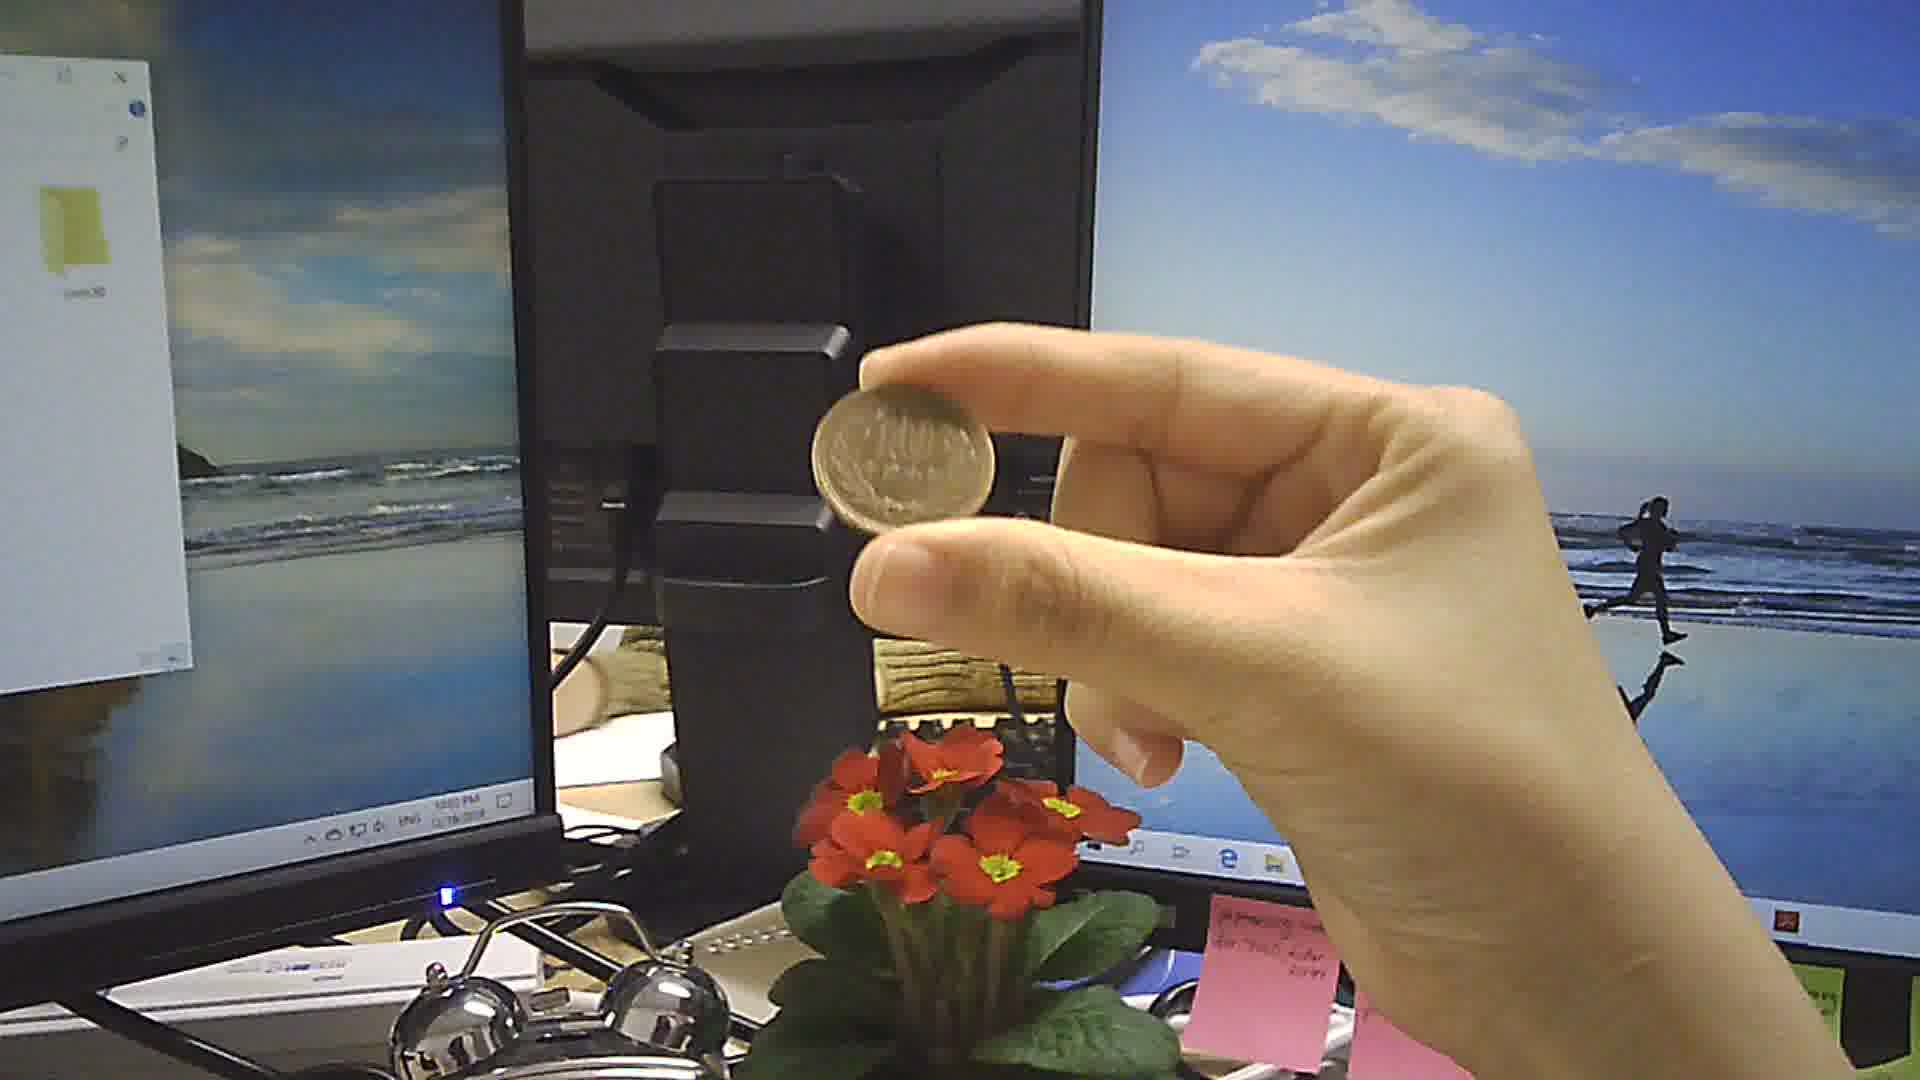10 Yen: (806, 371, 1000, 535)
